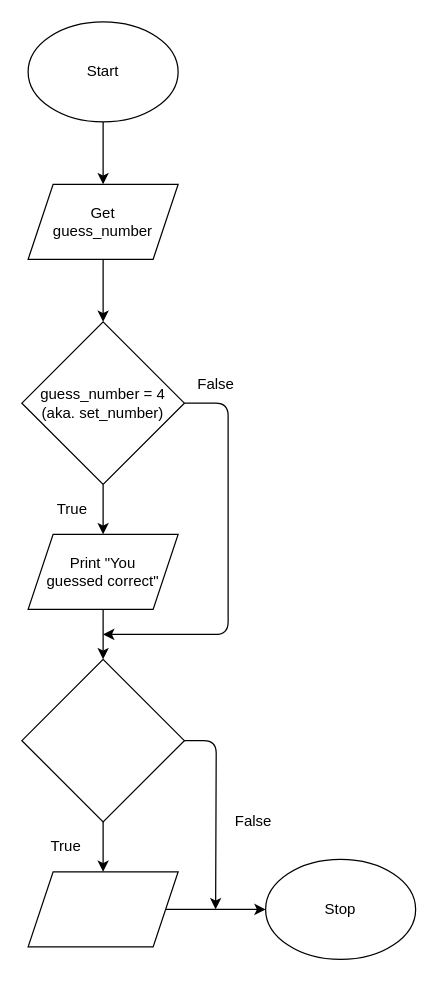
Some shapes in this 438 by 981 pixel diagram are drawn without their labels. Each missing label, with the centre of its shape:
guess_number does not = 4 (aka. set_number): pixel 102 740
Print "You guessed wrong": pixel 102 909
